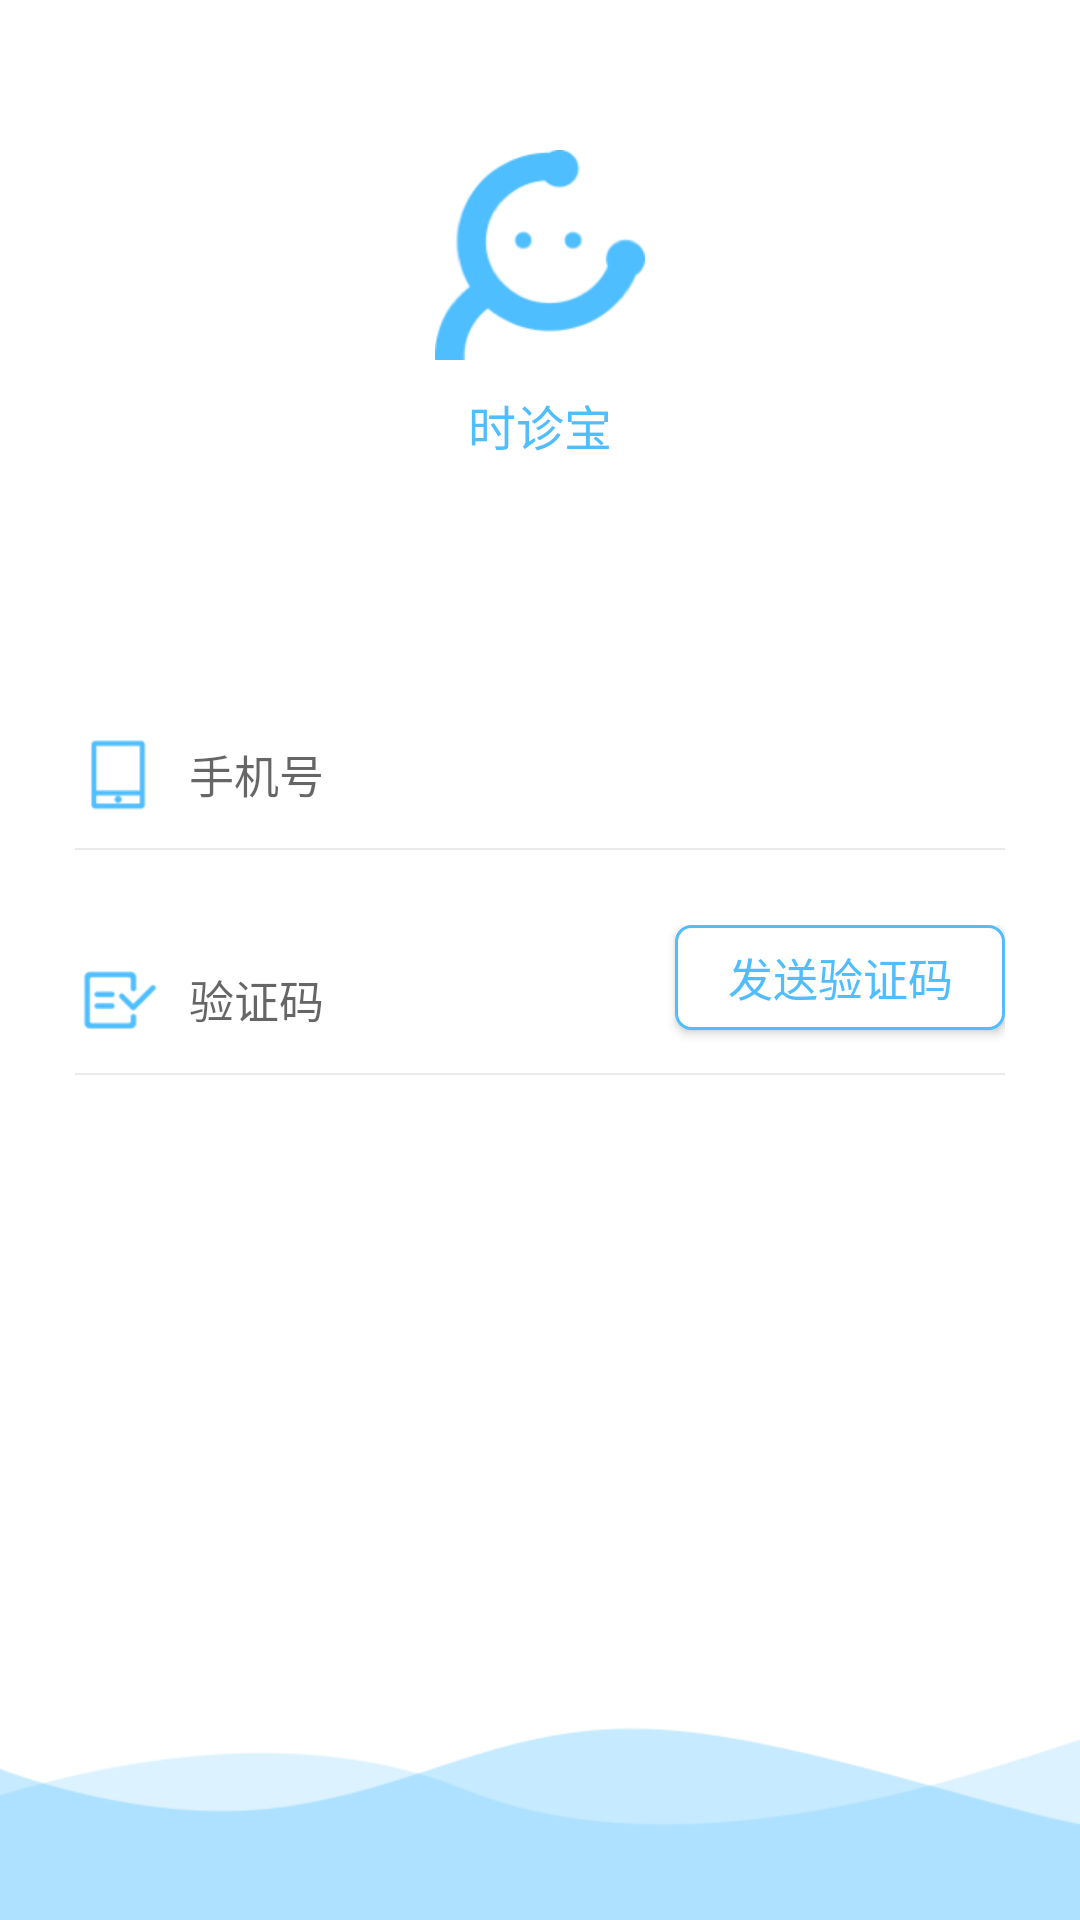

Named icons in this screenshot (1080px×1920px) and their bounding boxes, (x1, y1, x2, y2):
login code: (84, 971, 156, 1029)
login number: (91, 740, 146, 810)
